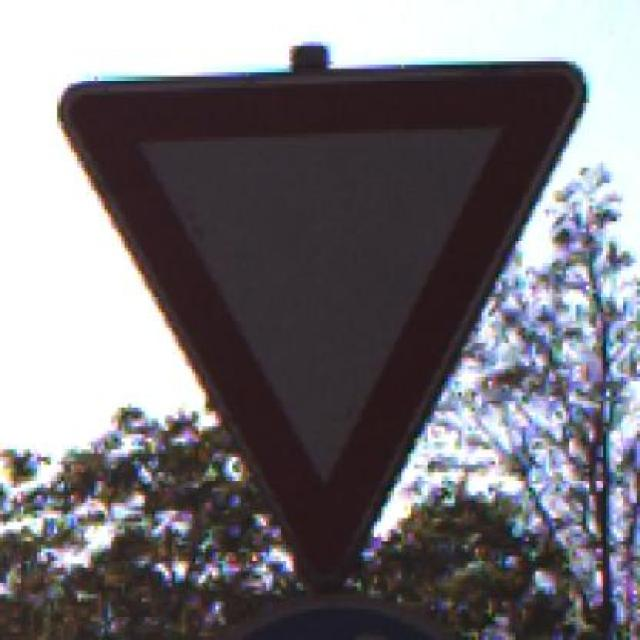Give Way: (34, 49, 600, 583)
